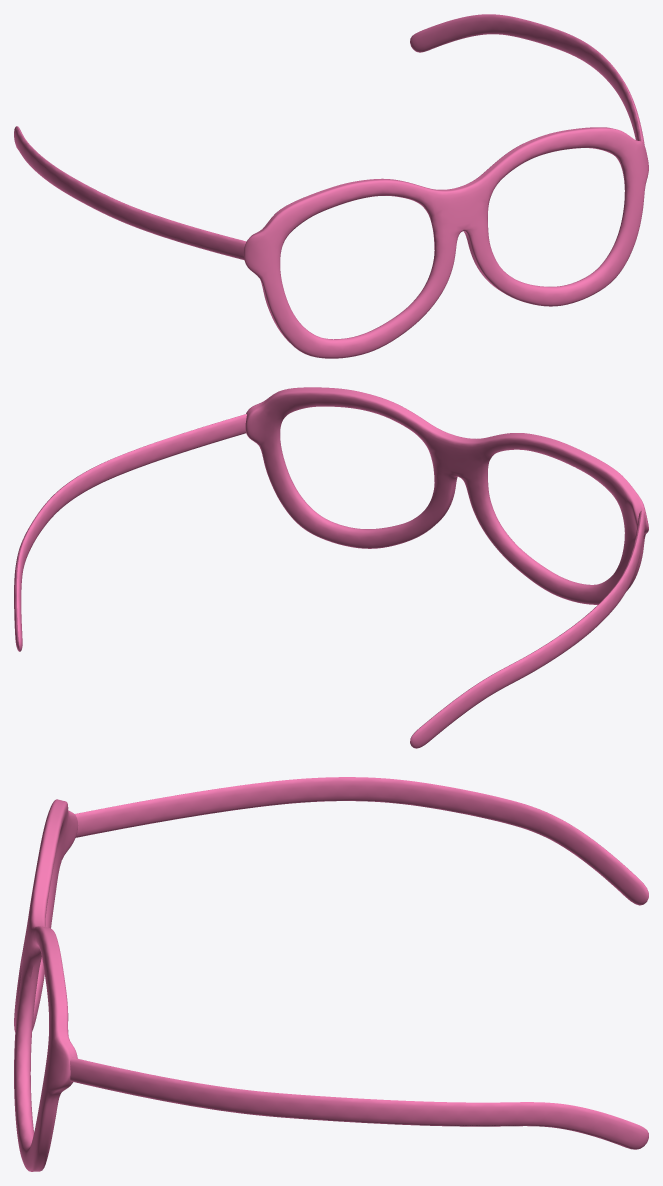
Rendered from Boston.gltf.
The picture shows the model from 3 angles, top to bottom: view 1: azimuth 30°, elevation 25°; view 2: azimuth 150°, elevation 25°; view 3: azimuth 270°, elevation 25°; orthographic projection. The views are drawn at different scales.
Visible parts, largest first — view 1: glasses5; view 2: glasses5; view 3: glasses5.
Boxes of the visible parts, x1,y1,x2,y2 form: glasses5: (14, 14, 648, 358); glasses5: (14, 387, 648, 748); glasses5: (14, 777, 648, 1171).
Size of the model in its own units: 7.48 by 2.2 by 6.16.
